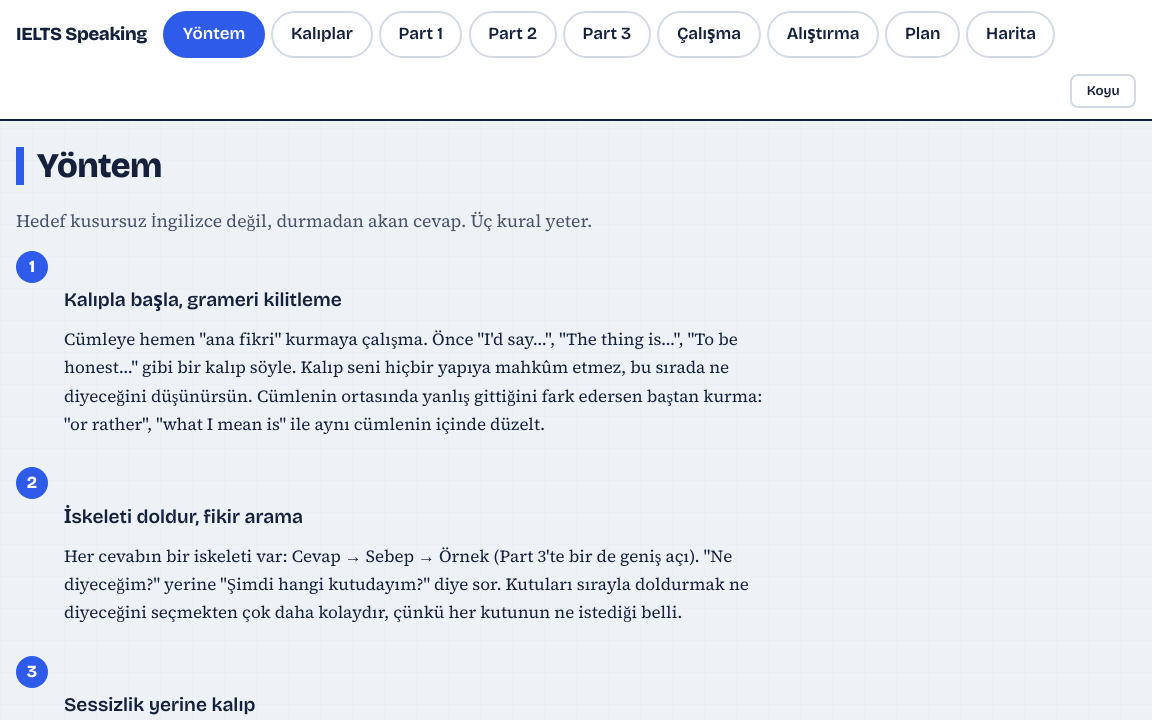
Test: menu has a Harita tab that opens the map page
Click the link "Harita": (1011, 34) 966,11 -> 1056,58
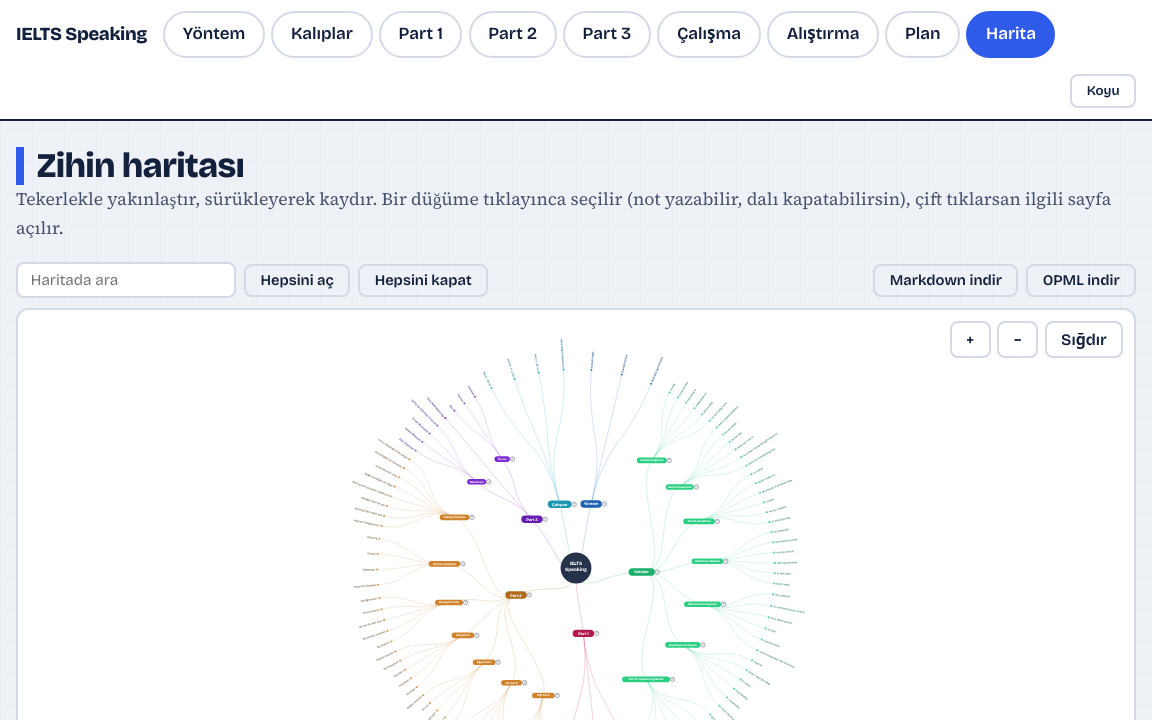
Expected: the heading reads "Zihin haritası", 37,145 -> 244,186
